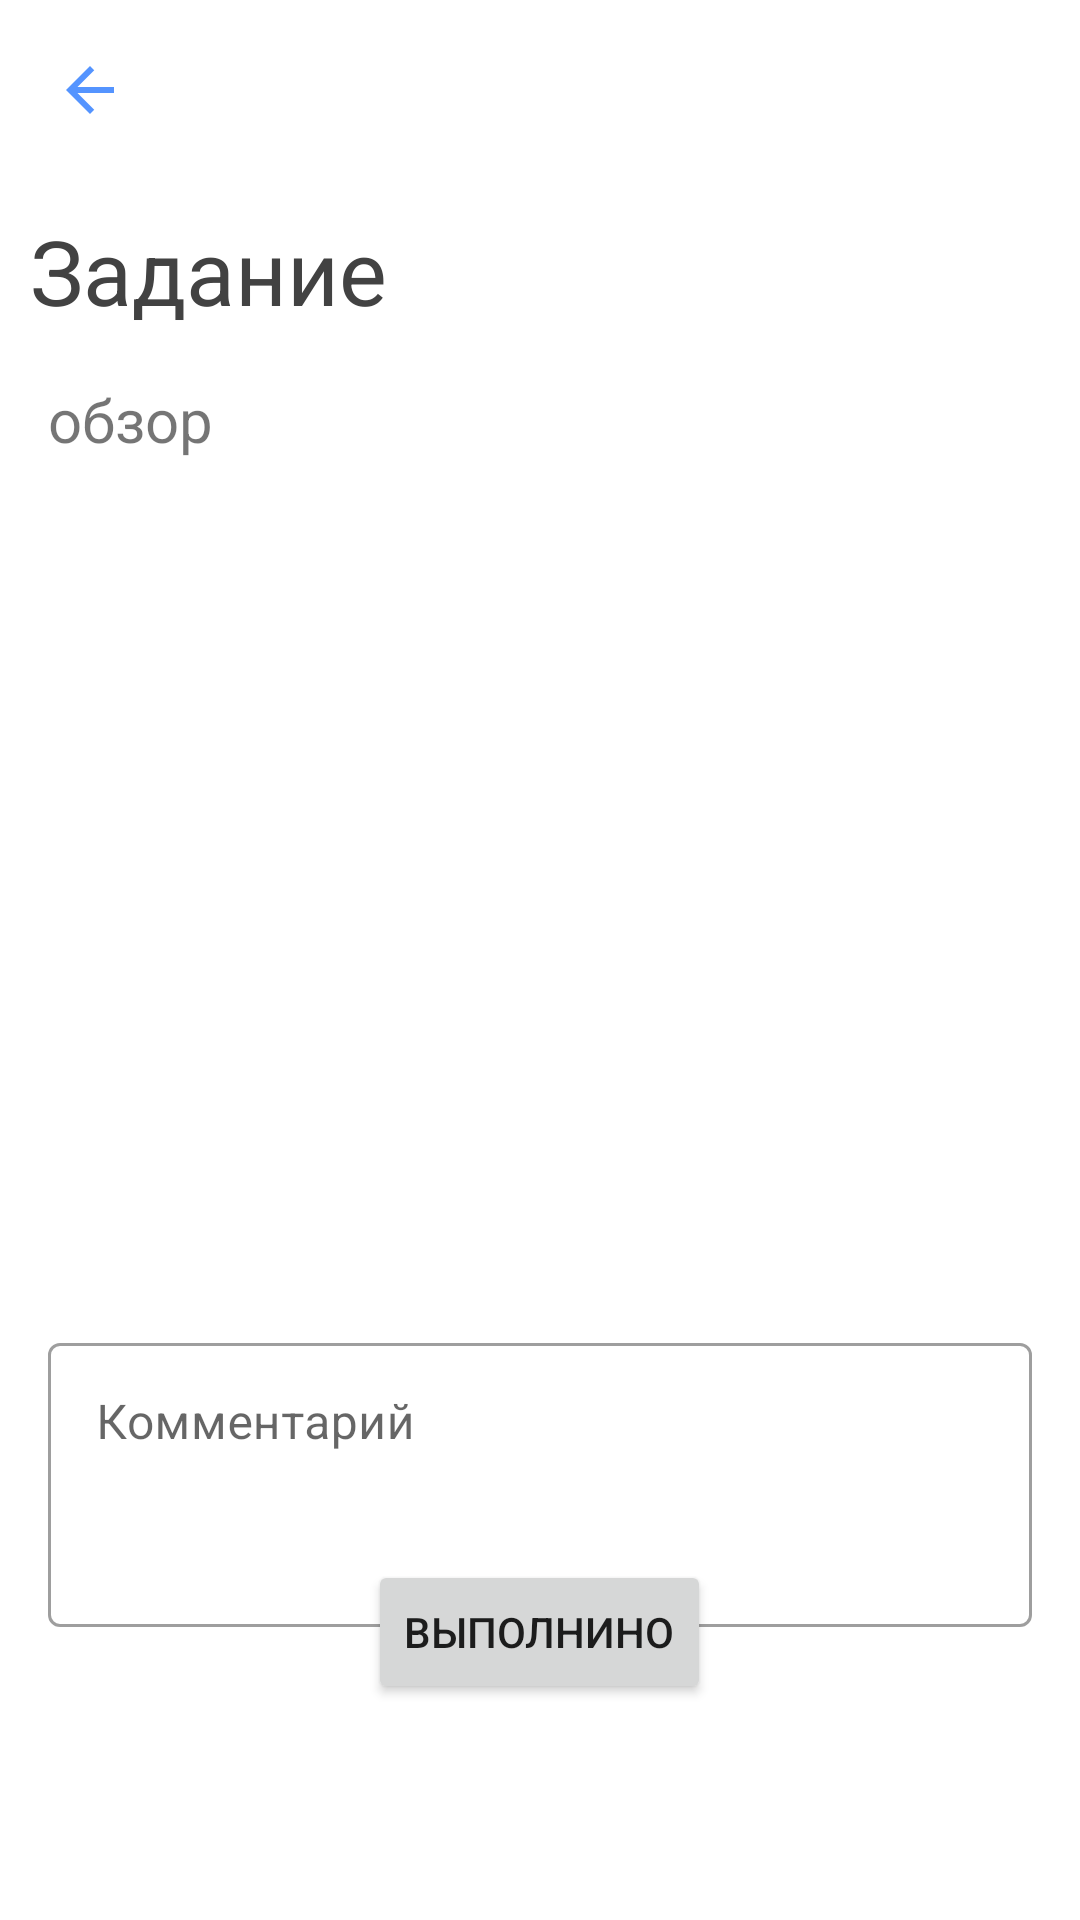

Icons on this 1080w x 1920h Android screen, each with its box as (x1, y1, x2, y2):
back: (66, 66, 114, 114)
